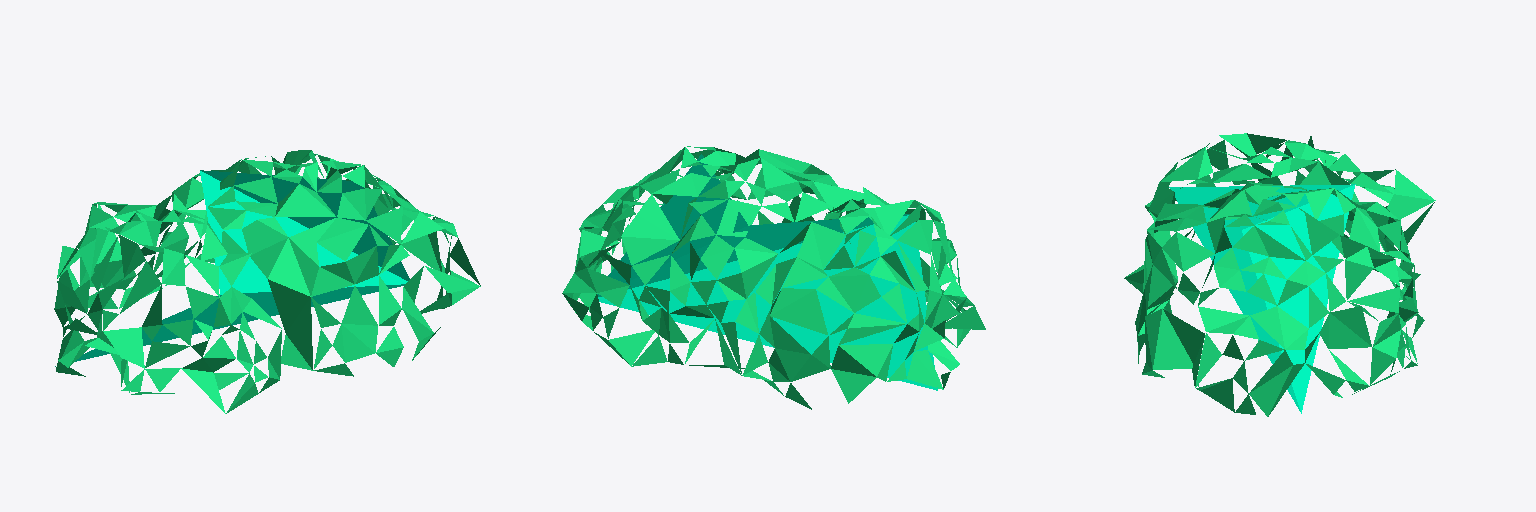
The model's file is WrightBuckwheat_LOD2.obj.
The picture shows the model from 3 angles: view 1: azimuth 30°, elevation 25°; view 2: azimuth 150°, elevation 25°; view 3: azimuth 270°, elevation 25°; orthographic projection.
Visible parts, largest first — view 1: WrightBuckwheat_LOD2; view 2: WrightBuckwheat_LOD2; view 3: WrightBuckwheat_LOD2.
Part boxes in pixels (left/top/right/bottom): WrightBuckwheat_LOD2: left=54, top=150, right=480, bottom=413; WrightBuckwheat_LOD2: left=562, top=146, right=985, bottom=409; WrightBuckwheat_LOD2: left=1124, top=133, right=1435, bottom=416.
Size of the model in its own units: 105 by 41.53 by 74.14.